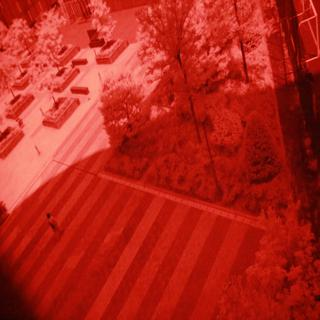person: (40, 208, 61, 245)
